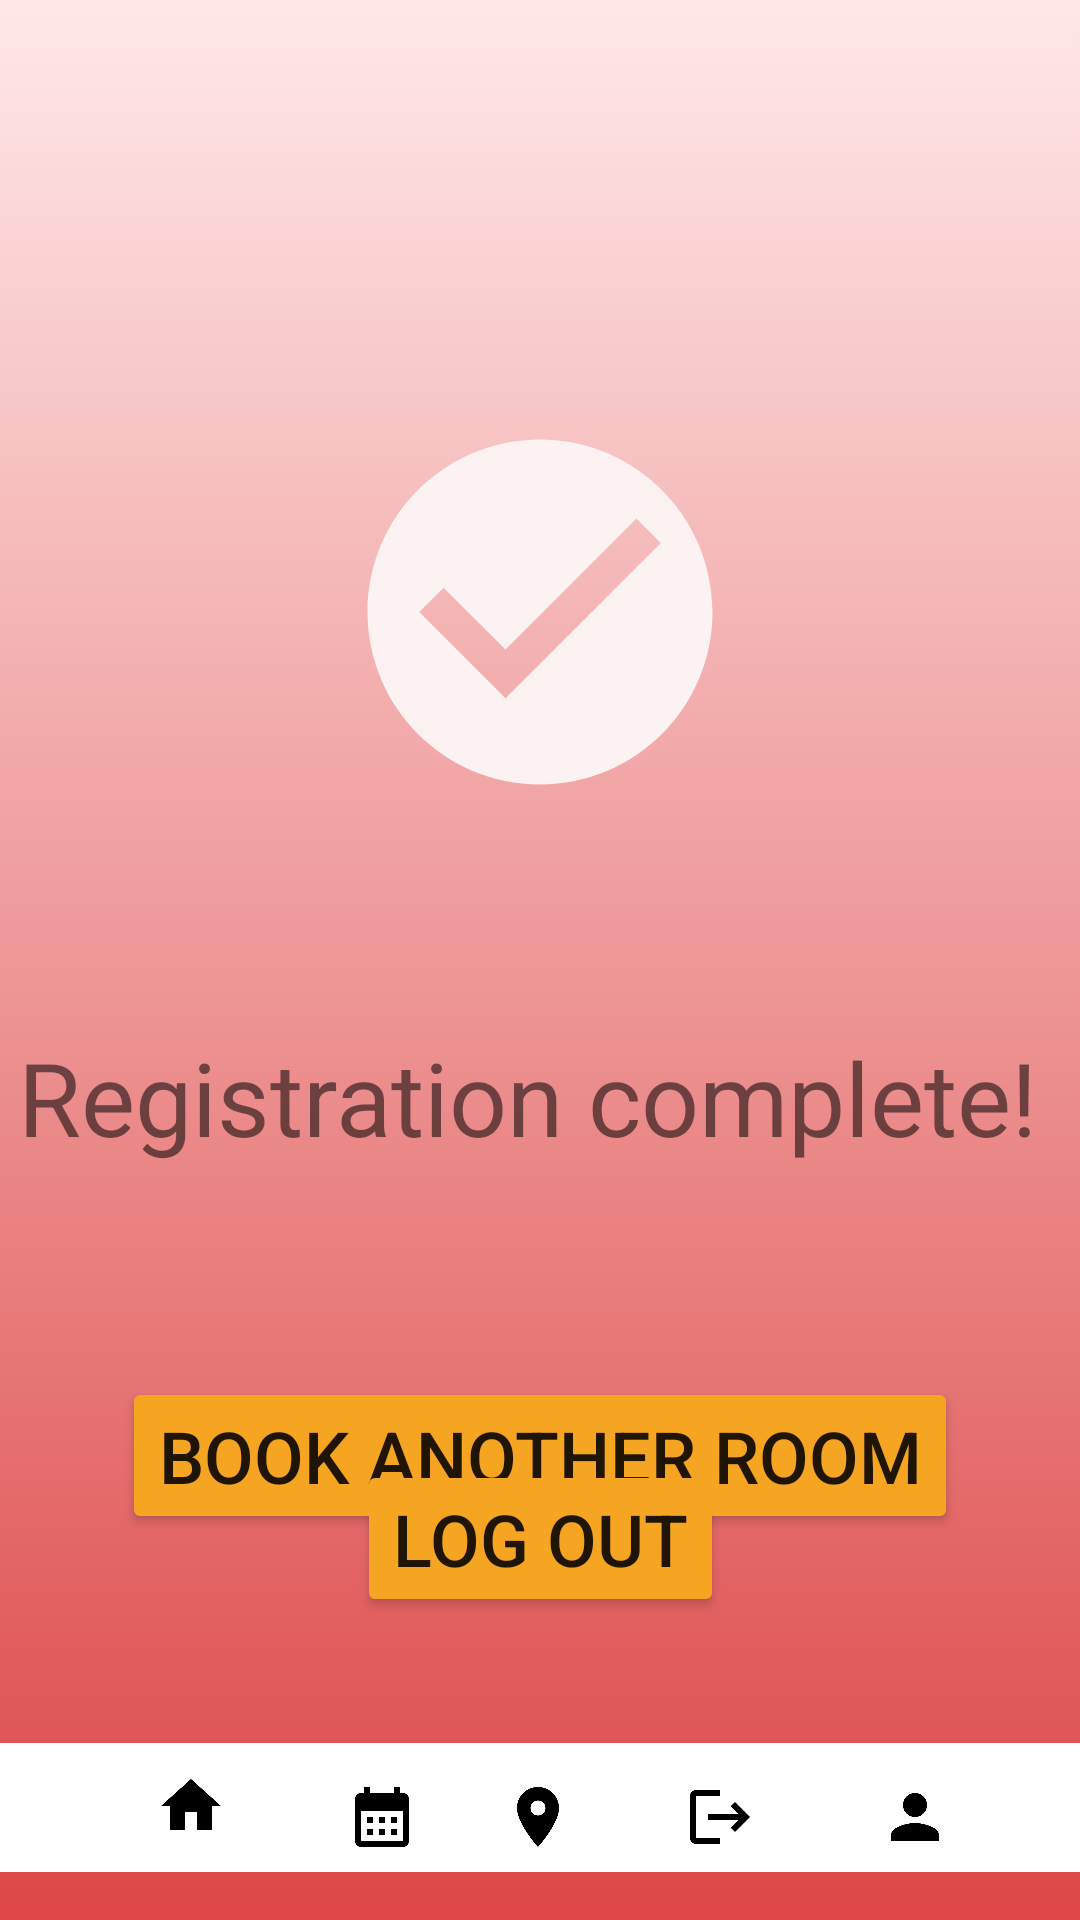

Screen size 1080 x 1920. Icon name, then its box in pixels as {"left": x1, "top": y1, "right": x2, "bottom": y2}:
calendar month: {"left": 355, "top": 1787, "right": 409, "bottom": 1847}
home: {"left": 161, "top": 1779, "right": 221, "bottom": 1830}
location on: {"left": 517, "top": 1787, "right": 559, "bottom": 1847}
person: {"left": 891, "top": 1793, "right": 939, "bottom": 1841}
